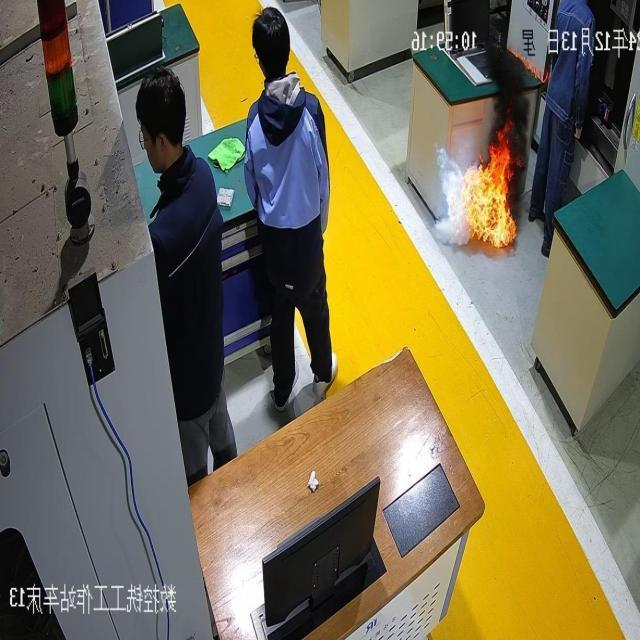smoke: (462, 118, 521, 256)
